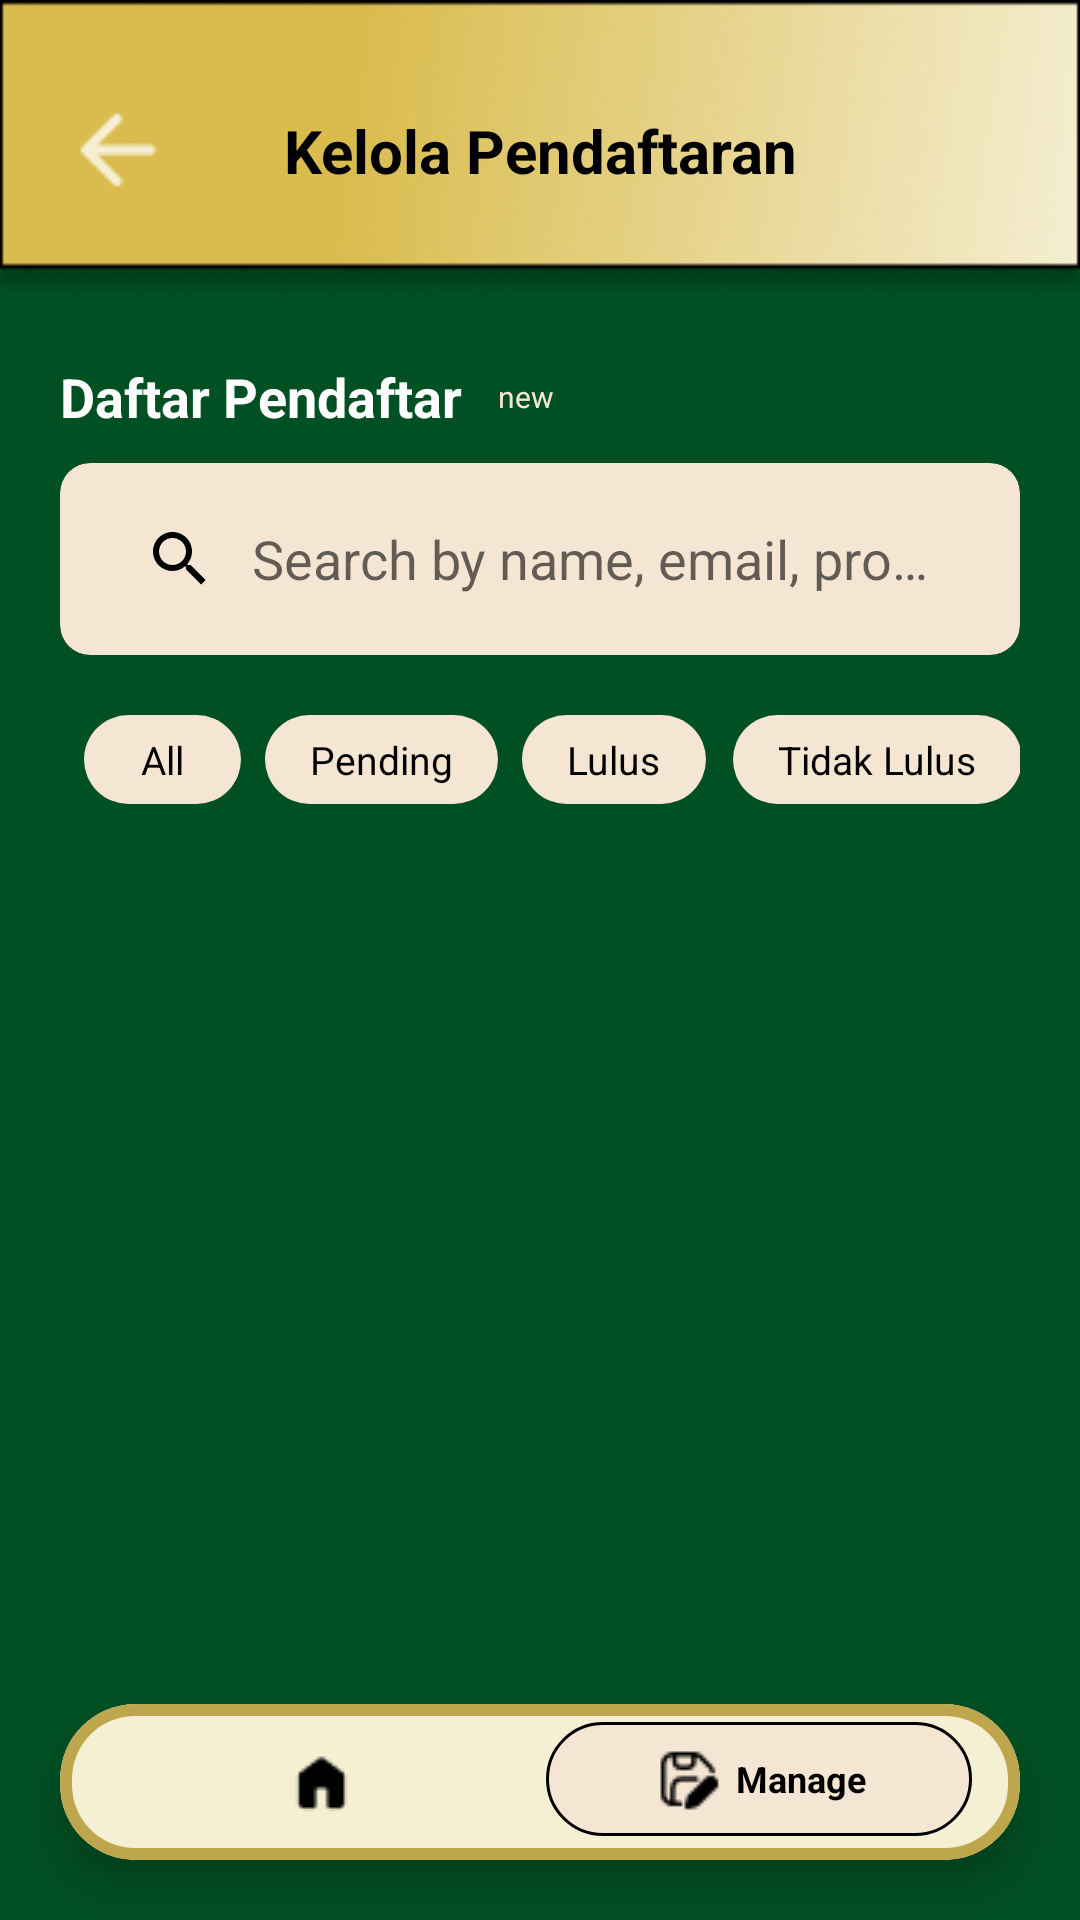

Screen size 1080x1920. Icon name, then its center in pixels as [x,y]:
Home: [321,1783]
Kembali: [118,150]
